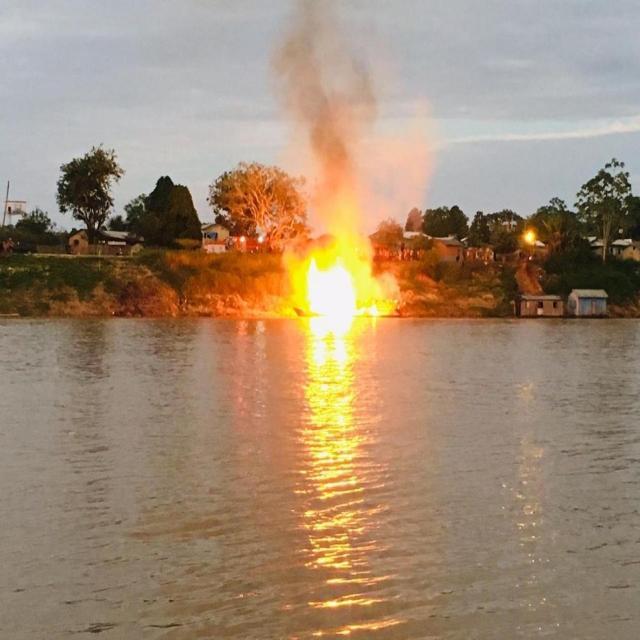Fire: (298, 250, 388, 318)
